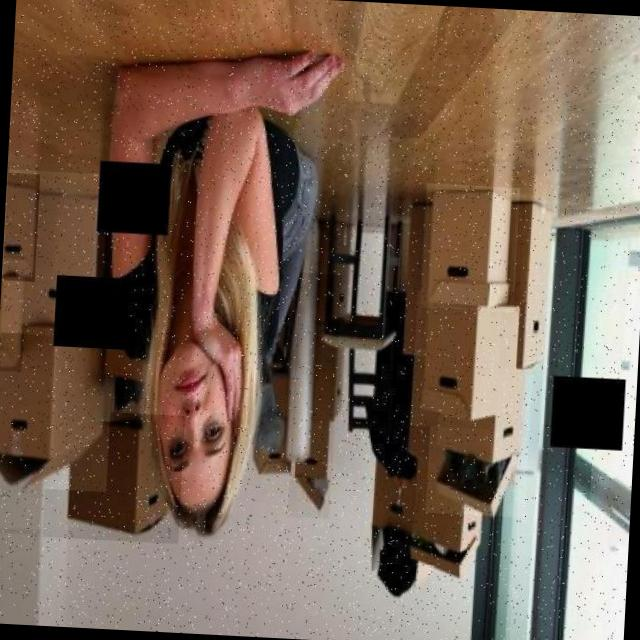box: (0, 313, 116, 492), (42, 409, 185, 544), (426, 346, 534, 518), (0, 169, 109, 338), (411, 290, 528, 432), (287, 272, 342, 520), (398, 442, 490, 590), (420, 183, 520, 313), (499, 195, 559, 376), (242, 356, 304, 485), (2, 172, 40, 282), (0, 271, 26, 372)
